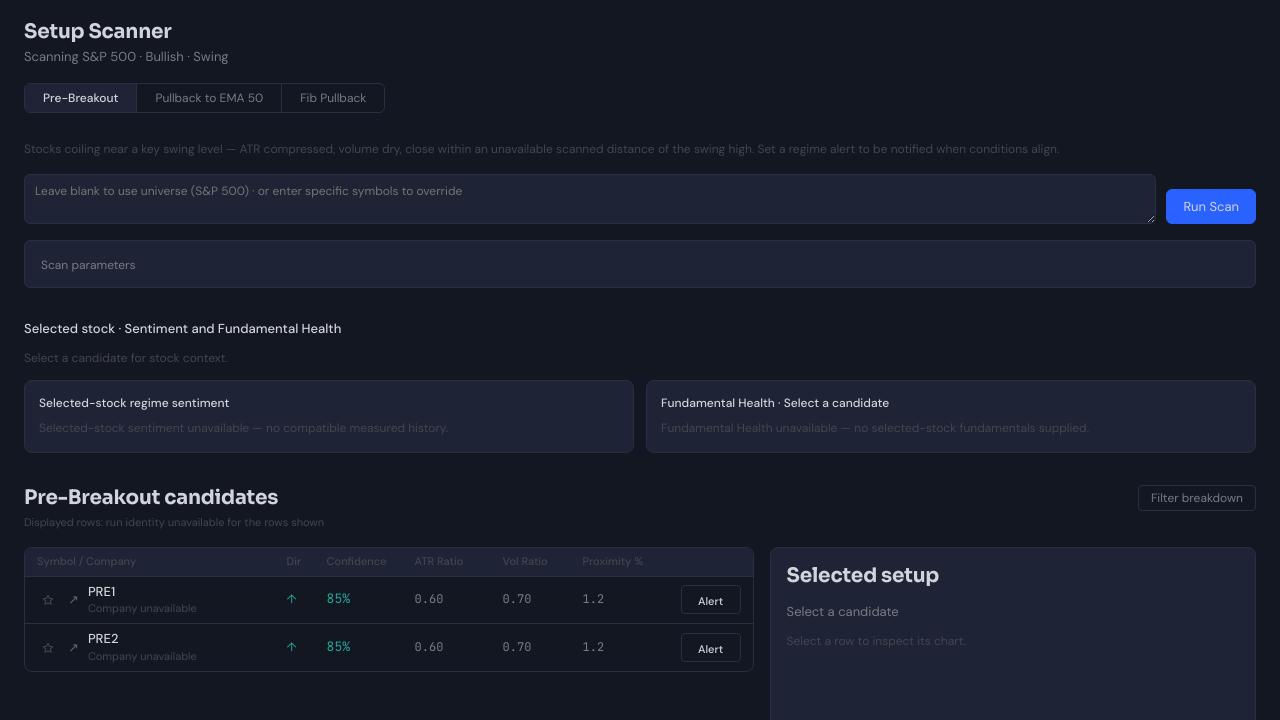
Pre-Breakout identity cell selection clicks (#364) › Pullback mode › clicking identity-cell whitespace selects candidate row
Click the button "Pullback to EMA 50": click(209, 98) [136,84,281,112]
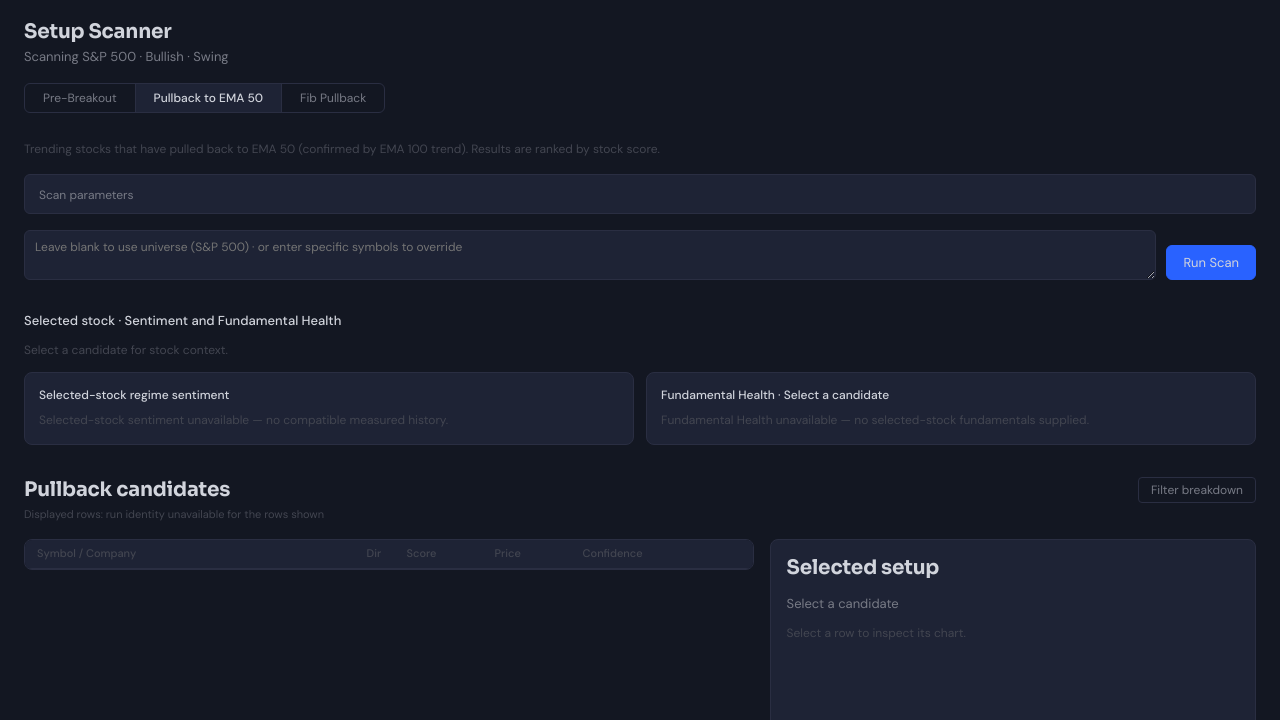
Click the button "Run Scan": click(1211, 262) [1166,245,1256,280]
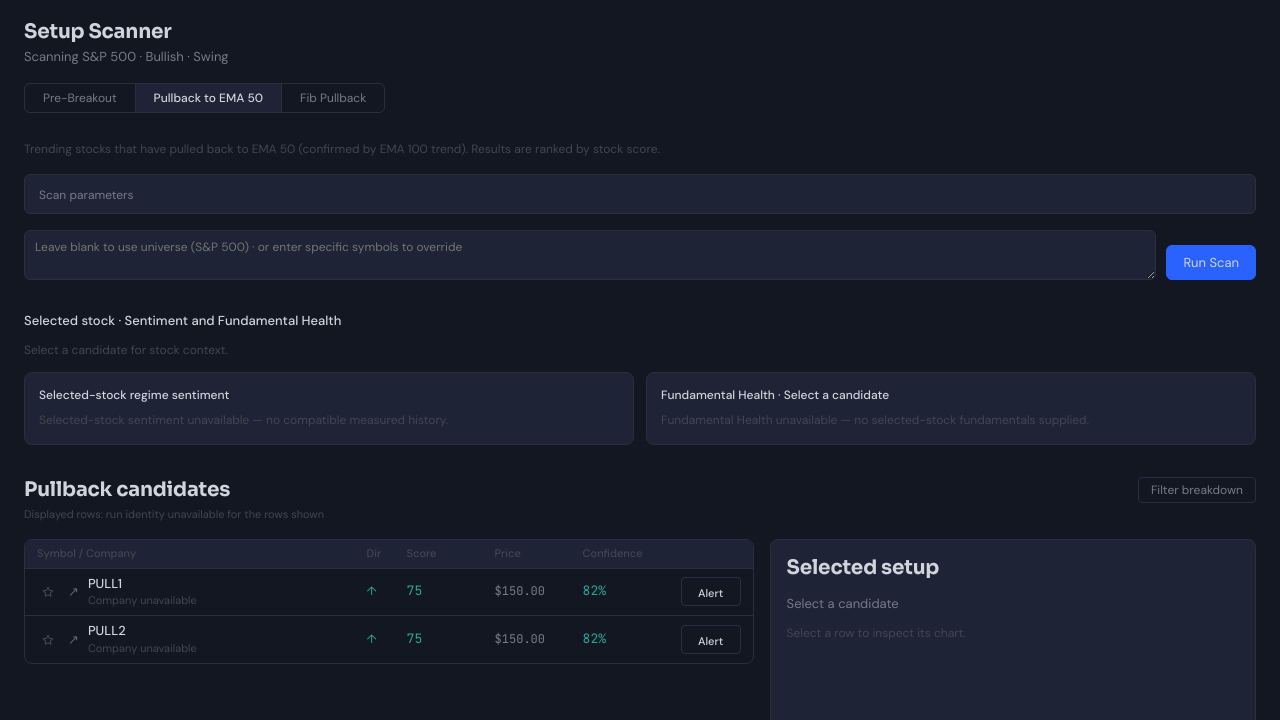
Click directly on the identity cell container (whitespace outside buttons and text)
Click the element named "Identity for PULL1": click(117, 591) [37,574,197,607]
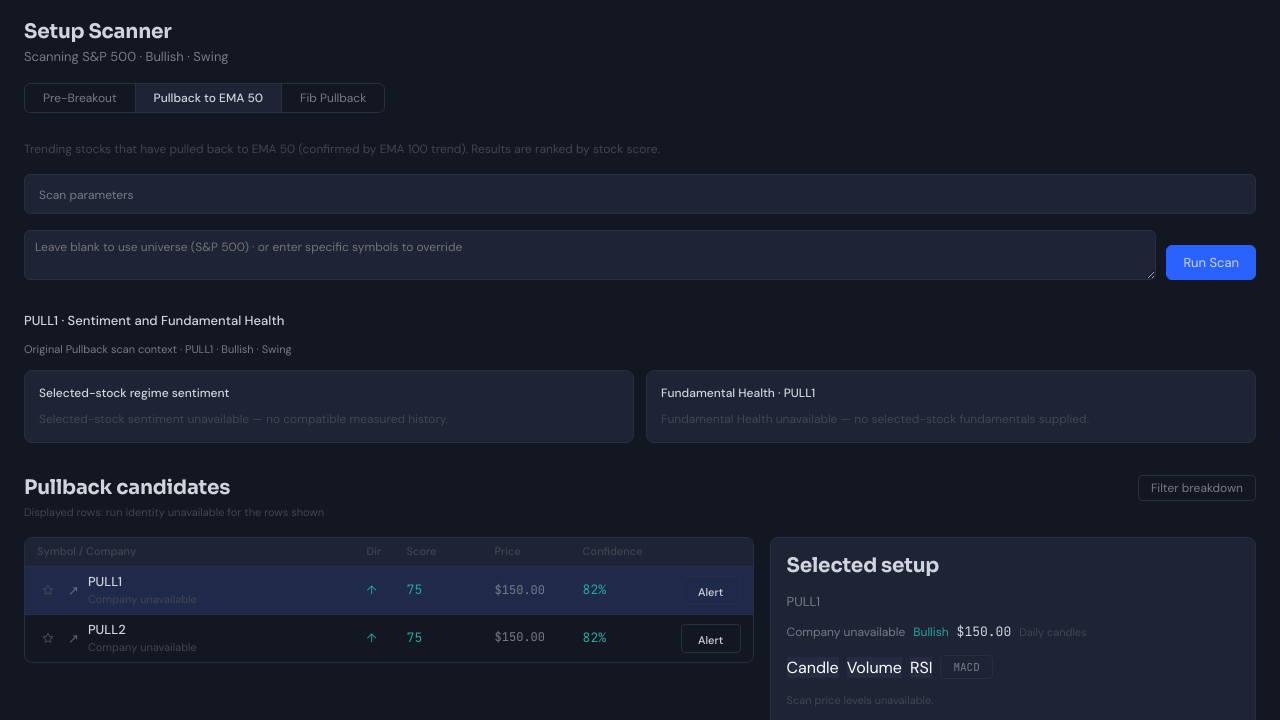
Expected: the element named "Selected setup" reads "PULL1", [787,593,820,610]
